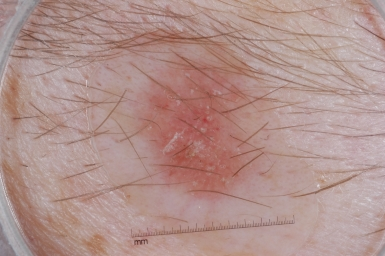seborrheic keratosis: (128, 65, 264, 190)
